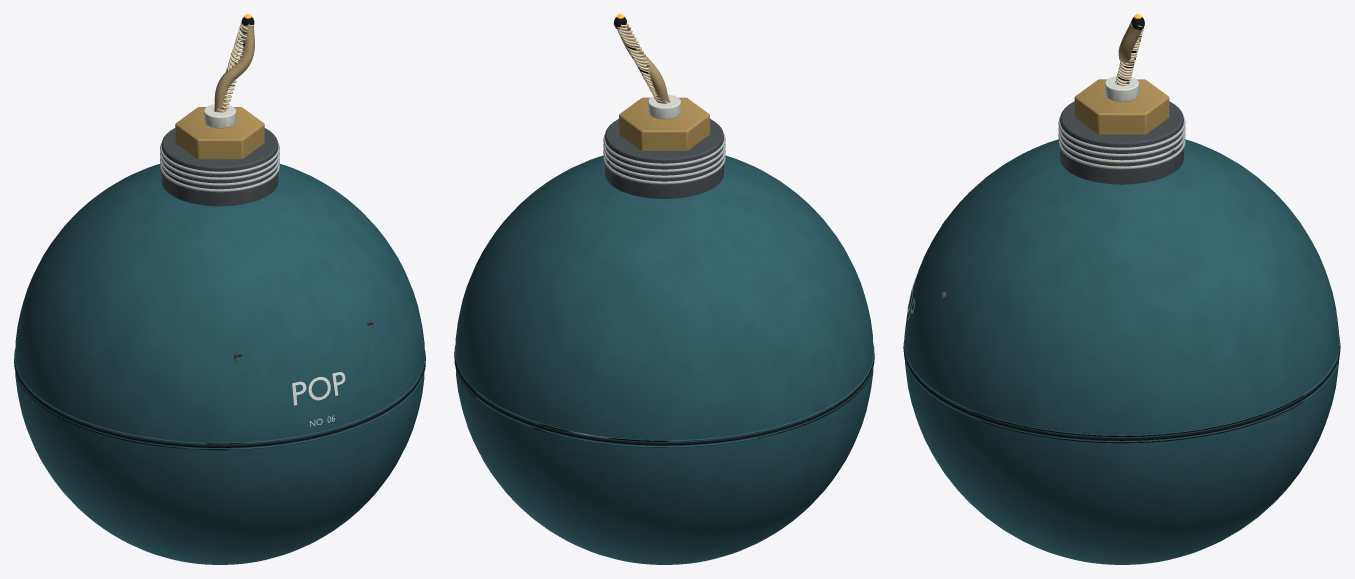
File: pop-bomb.glb
The picture shows the model from 3 angles, left to right: view 1: azimuth 30°, elevation 25°; view 2: azimuth 150°, elevation 25°; view 3: azimuth 270°, elevation 25°; orthographic projection. The views are drawn at different scales.
Visible parts, largest first — view 1: pop-bomb; view 2: pop-bomb; view 3: pop-bomb.
Boxes of the visible parts, x1=… form: pop-bomb: x1=14, y1=14, x2=425, y2=564; pop-bomb: x1=454, y1=14, x2=874, y2=564; pop-bomb: x1=903, y1=14, x2=1340, y2=564.
Bounding box in the file's own units: 0.3816 × 0.5285 × 0.3816.
9 materials, 9 textured.
